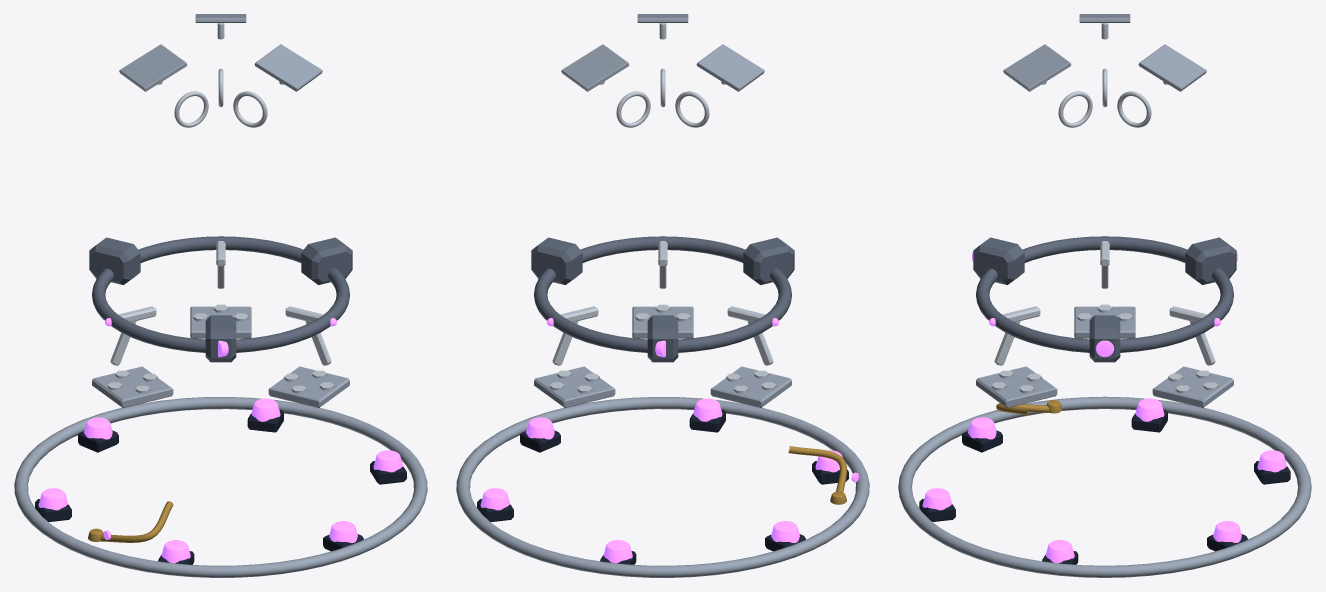
File: tower_singularity_range_s8.glb
The picture shows the model from 3 angles, left to right: view 1: azimuth 30°, elevation 25°; view 2: azimuth 150°, elevation 25°; view 3: azimuth 270°, elevation 25°; orthographic projection.
Parts seen in each view (by area): view 1: singularity_projector_ring, singularity_collar_ring, singularity_collar_pod0, singularity_collar_pod1, singularity_foot_plate0, singularity_foot_plate1, singularity_reflector0, singularity_reflector1, singularity_collar_pod2, singularity_foot_plate2, singularity_projector_conduit, singularity_projector_node1 (+6 smaller); view 2: singularity_projector_ring, singularity_collar_ring, singularity_collar_pod1, singularity_collar_pod2, singularity_foot_plate0, singularity_foot_plate2, singularity_reflector0, singularity_reflector2, singularity_collar_pod0, singularity_foot_plate1, singularity_projector_conduit, singularity_projector_node3 (+5 smaller); view 3: singularity_projector_ring, singularity_collar_ring, singularity_collar_pod0, singularity_collar_pod2, singularity_foot_plate1, singularity_foot_plate2, singularity_reflector1, singularity_reflector2, singularity_collar_pod1, singularity_foot_plate0, singularity_projector_node5, singularity_projector_node0 (+5 smaller).
Part boxes in pixels (box(x1,y1,x2,y2)): singularity_projector_ring: box(14, 397, 427, 577); singularity_collar_ring: box(92, 236, 349, 352); singularity_collar_pod0: box(89, 237, 140, 284); singularity_collar_pod1: box(301, 237, 352, 284); singularity_foot_plate0: box(92, 366, 173, 407); singularity_foot_plate1: box(268, 366, 349, 407); singularity_reflector0: box(119, 44, 187, 91); singularity_reflector1: box(254, 44, 322, 91); singularity_collar_pod2: box(205, 315, 236, 362); singularity_foot_plate2: box(190, 306, 251, 338); singularity_projector_conduit: box(100, 501, 173, 542); singularity_projector_node1: box(84, 417, 112, 439); singularity_projector_ring: box(456, 397, 869, 577); singularity_collar_ring: box(534, 236, 791, 352); singularity_collar_pod1: box(531, 237, 582, 284); singularity_collar_pod2: box(743, 237, 794, 284); singularity_foot_plate0: box(710, 366, 791, 407); singularity_foot_plate2: box(534, 366, 615, 407); singularity_reflector0: box(696, 44, 764, 91); singularity_reflector2: box(561, 44, 629, 91); singularity_collar_pod0: box(647, 315, 678, 362); singularity_foot_plate1: box(632, 306, 693, 338); singularity_projector_conduit: box(788, 446, 847, 491); singularity_projector_node3: box(526, 417, 554, 439); singularity_projector_ring: box(898, 396, 1311, 577); singularity_collar_ring: box(976, 236, 1233, 352); singularity_collar_pod0: box(1185, 237, 1236, 284); singularity_collar_pod2: box(973, 237, 1024, 284); singularity_foot_plate1: box(976, 366, 1057, 407); singularity_foot_plate2: box(1152, 366, 1233, 407); singularity_reflector1: box(1003, 44, 1071, 91); singularity_reflector2: box(1138, 44, 1206, 91); singularity_collar_pod1: box(1089, 315, 1120, 362); singularity_foot_plate0: box(1074, 306, 1135, 338); singularity_projector_node5: box(968, 417, 996, 439); singularity_projector_node0: box(1135, 398, 1164, 421).
Bounding box in the file's own units: 2.43 × 2.95 × 2.43.
